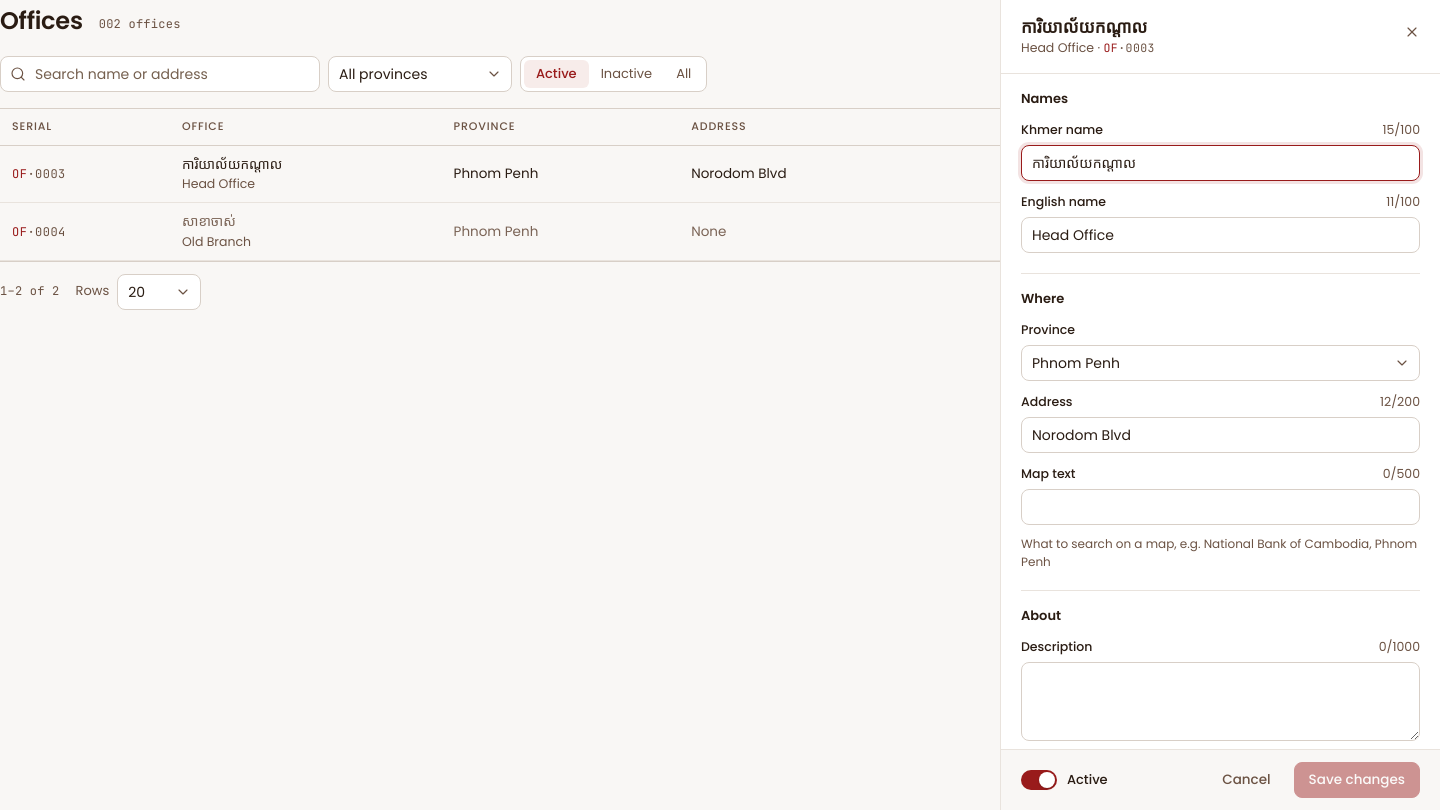
Test: OfficesView › counts the office's active rooms before asking to turn it off
Click the switch named "Active" at (1039, 780), box top-left (1021, 770), bottom-right (1057, 790)
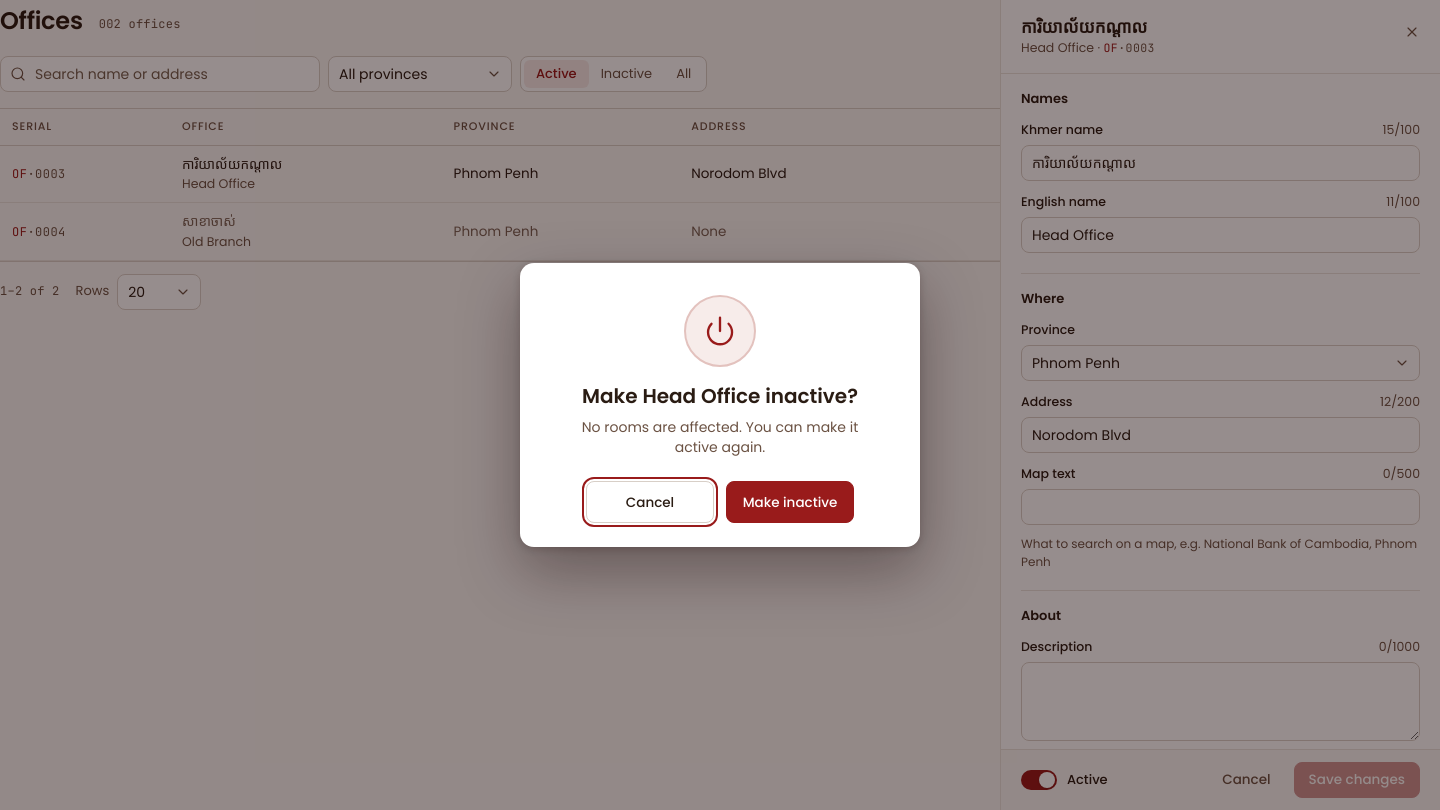
Result: the dialog shows "No rooms are affected." at top-left (582, 417), bottom-right (858, 457)
